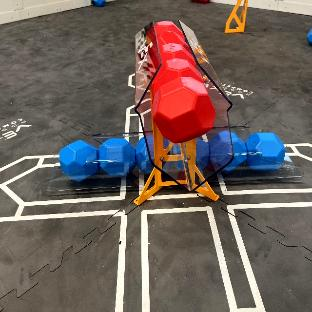V5_BLUE: (245, 133, 285, 169), (197, 141, 208, 168)
V5_RED: (148, 21, 214, 142)
